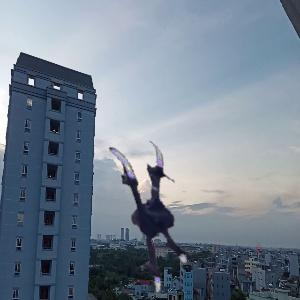drone: (63, 143, 213, 293)
